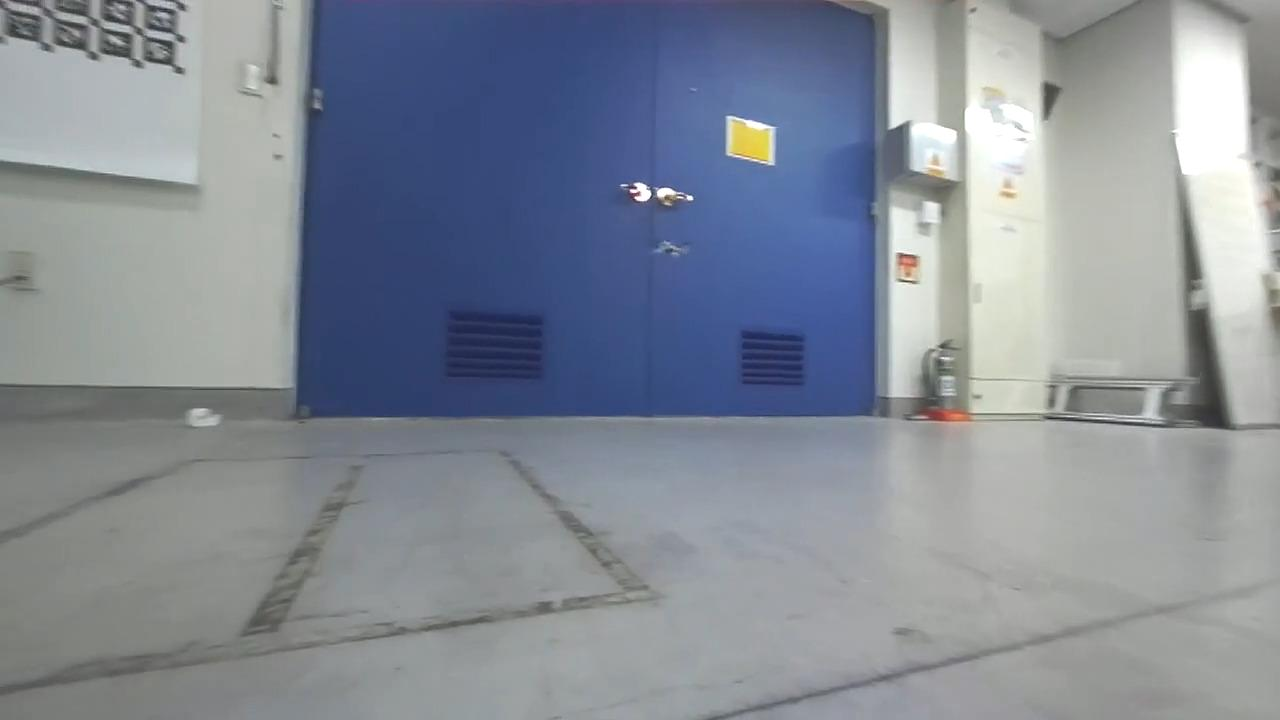crazyflie: (646, 233, 697, 263)
